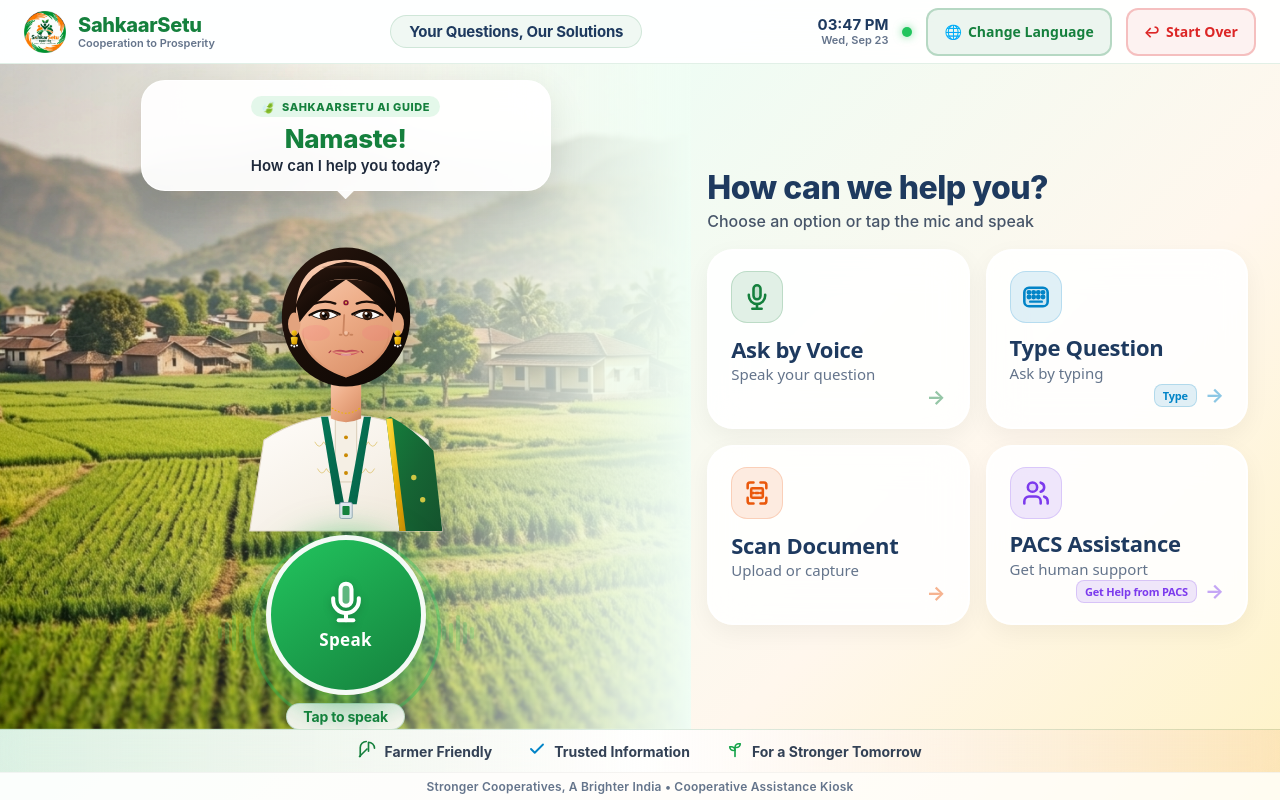
Test: Direct HomeScreen Startup & In-Place Language Selection › 6. closing language modal leaves user on HomeScreen
Click the button "🌐 Change Language". click: (1019, 32)
box: [926,8,1112,56]
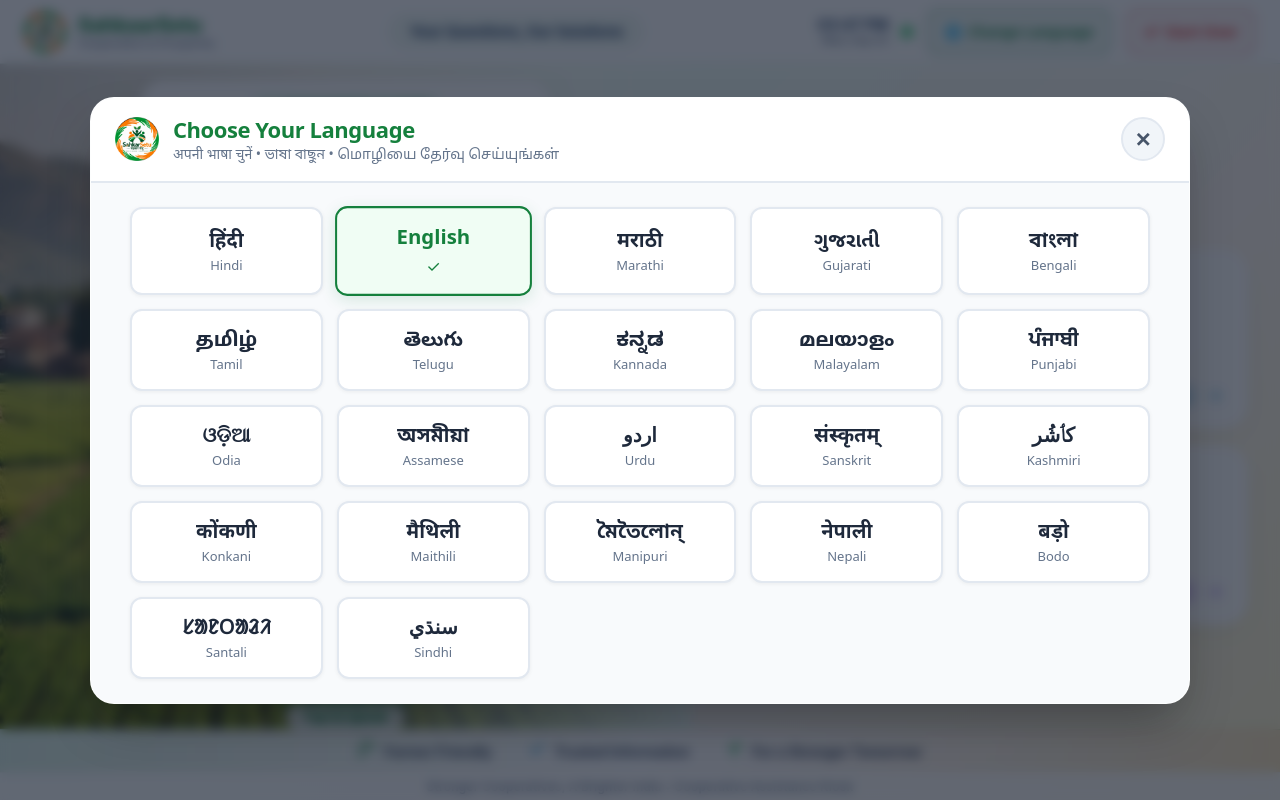
Expected: the dialog "Choose Your Language" is shown
Note: Click close button '✕'
Click the button named "close". click: (1143, 139)
box: [1121,117,1165,161]
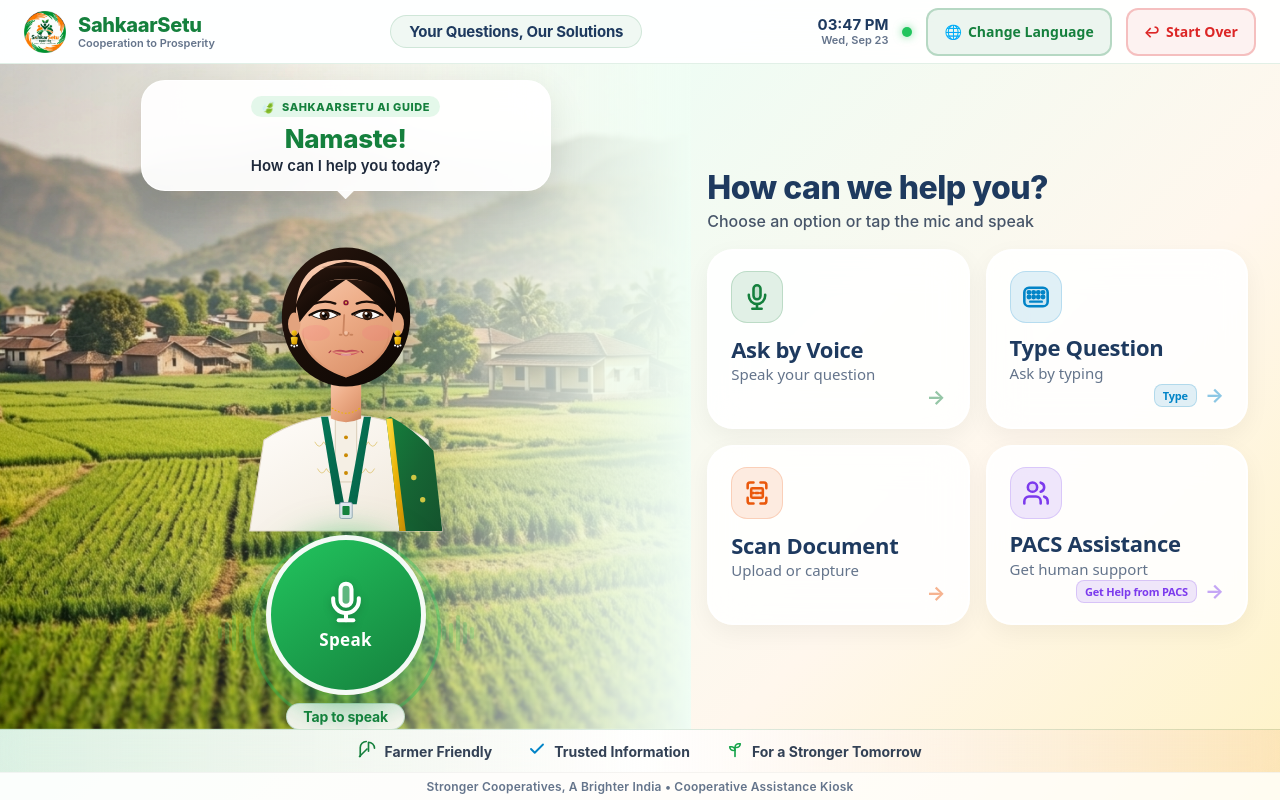
Expected: the heading "How can we help you?" is shown, [707,168,1048,207]
Expected: the heading "Choose Your Language" is gone
